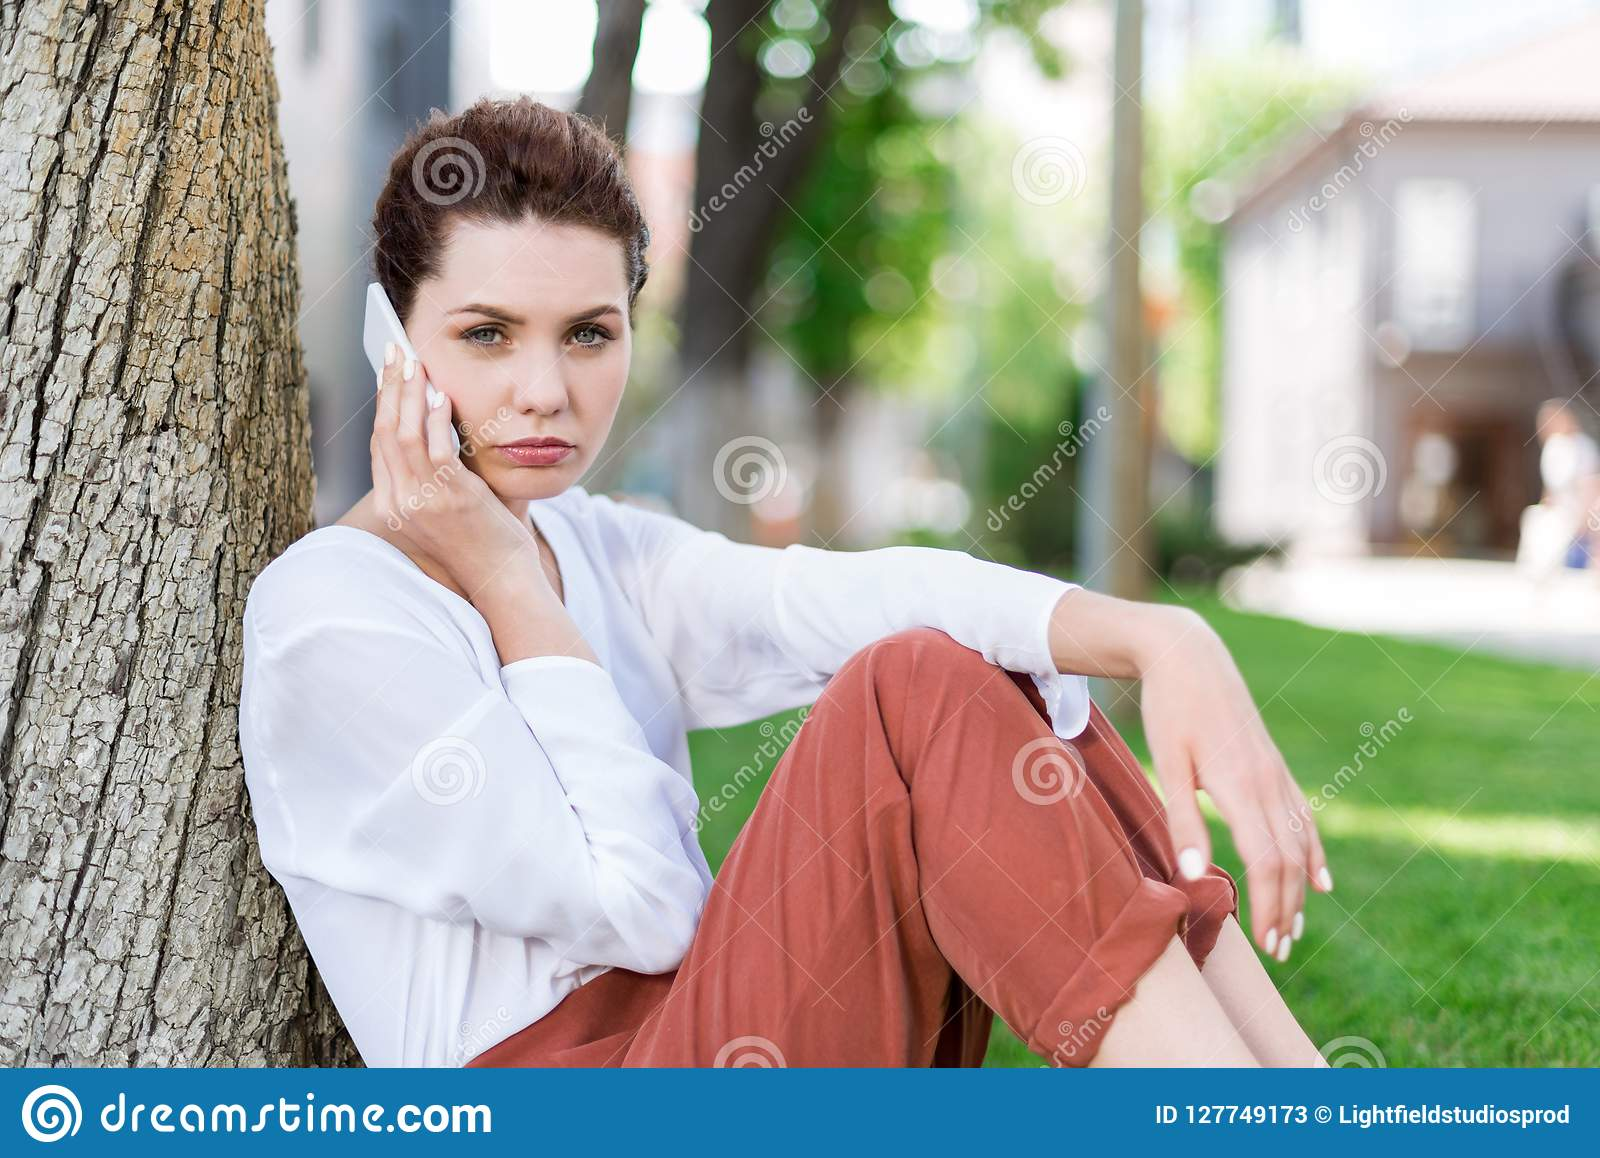phone: (365, 280, 470, 465)
talk: (364, 280, 634, 590)
